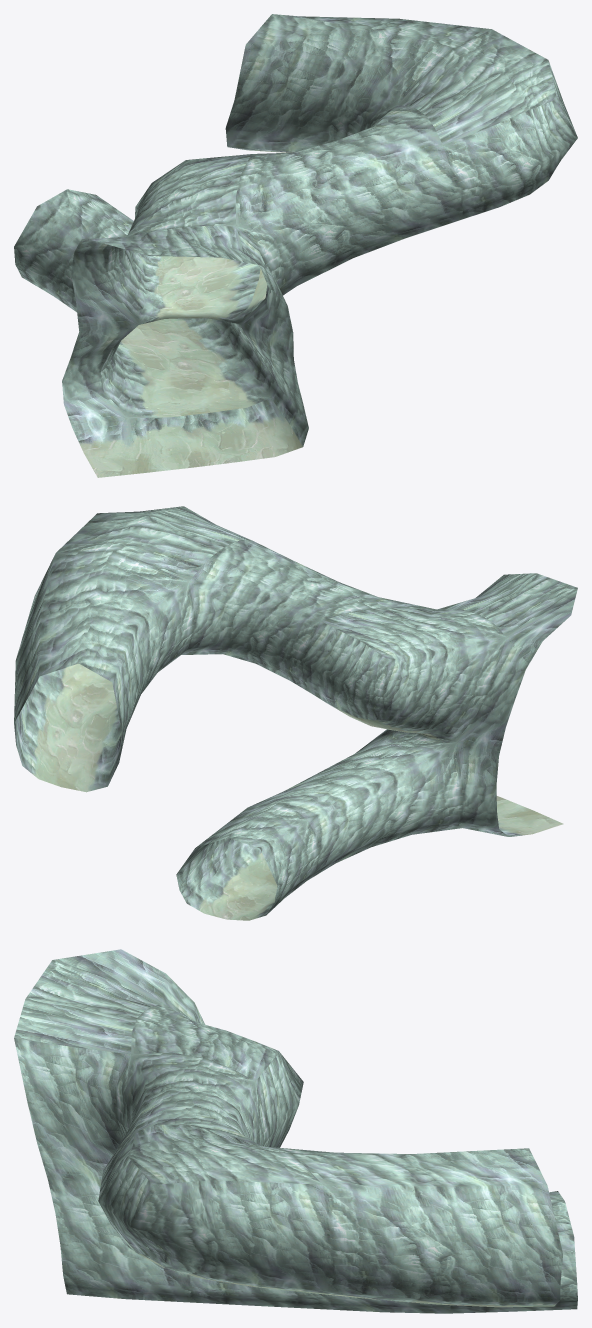
The model's file is TROLLHOLE02_PS-SECRETCAVE01.fbx.
The picture shows the model from 3 angles, top to bottom: view 1: azimuth 30°, elevation 25°; view 2: azimuth 150°, elevation 25°; view 3: azimuth 270°, elevation 25°; orthographic projection. The views are drawn at different scales.
Parts seen in each view (by area): view 1: TROLLHOLE02_PS-SECRETCAVE01; view 2: TROLLHOLE02_PS-SECRETCAVE01; view 3: TROLLHOLE02_PS-SECRETCAVE01.
Part boxes in pixels (x1,y1,x2,y2): TROLLHOLE02_PS-SECRETCAVE01: [14, 14, 577, 477]; TROLLHOLE02_PS-SECRETCAVE01: [14, 506, 577, 920]; TROLLHOLE02_PS-SECRETCAVE01: [14, 949, 577, 1313].
Size of the model in its own units: 255156 by 128245 by 226612.
4 materials, 4 textured.
